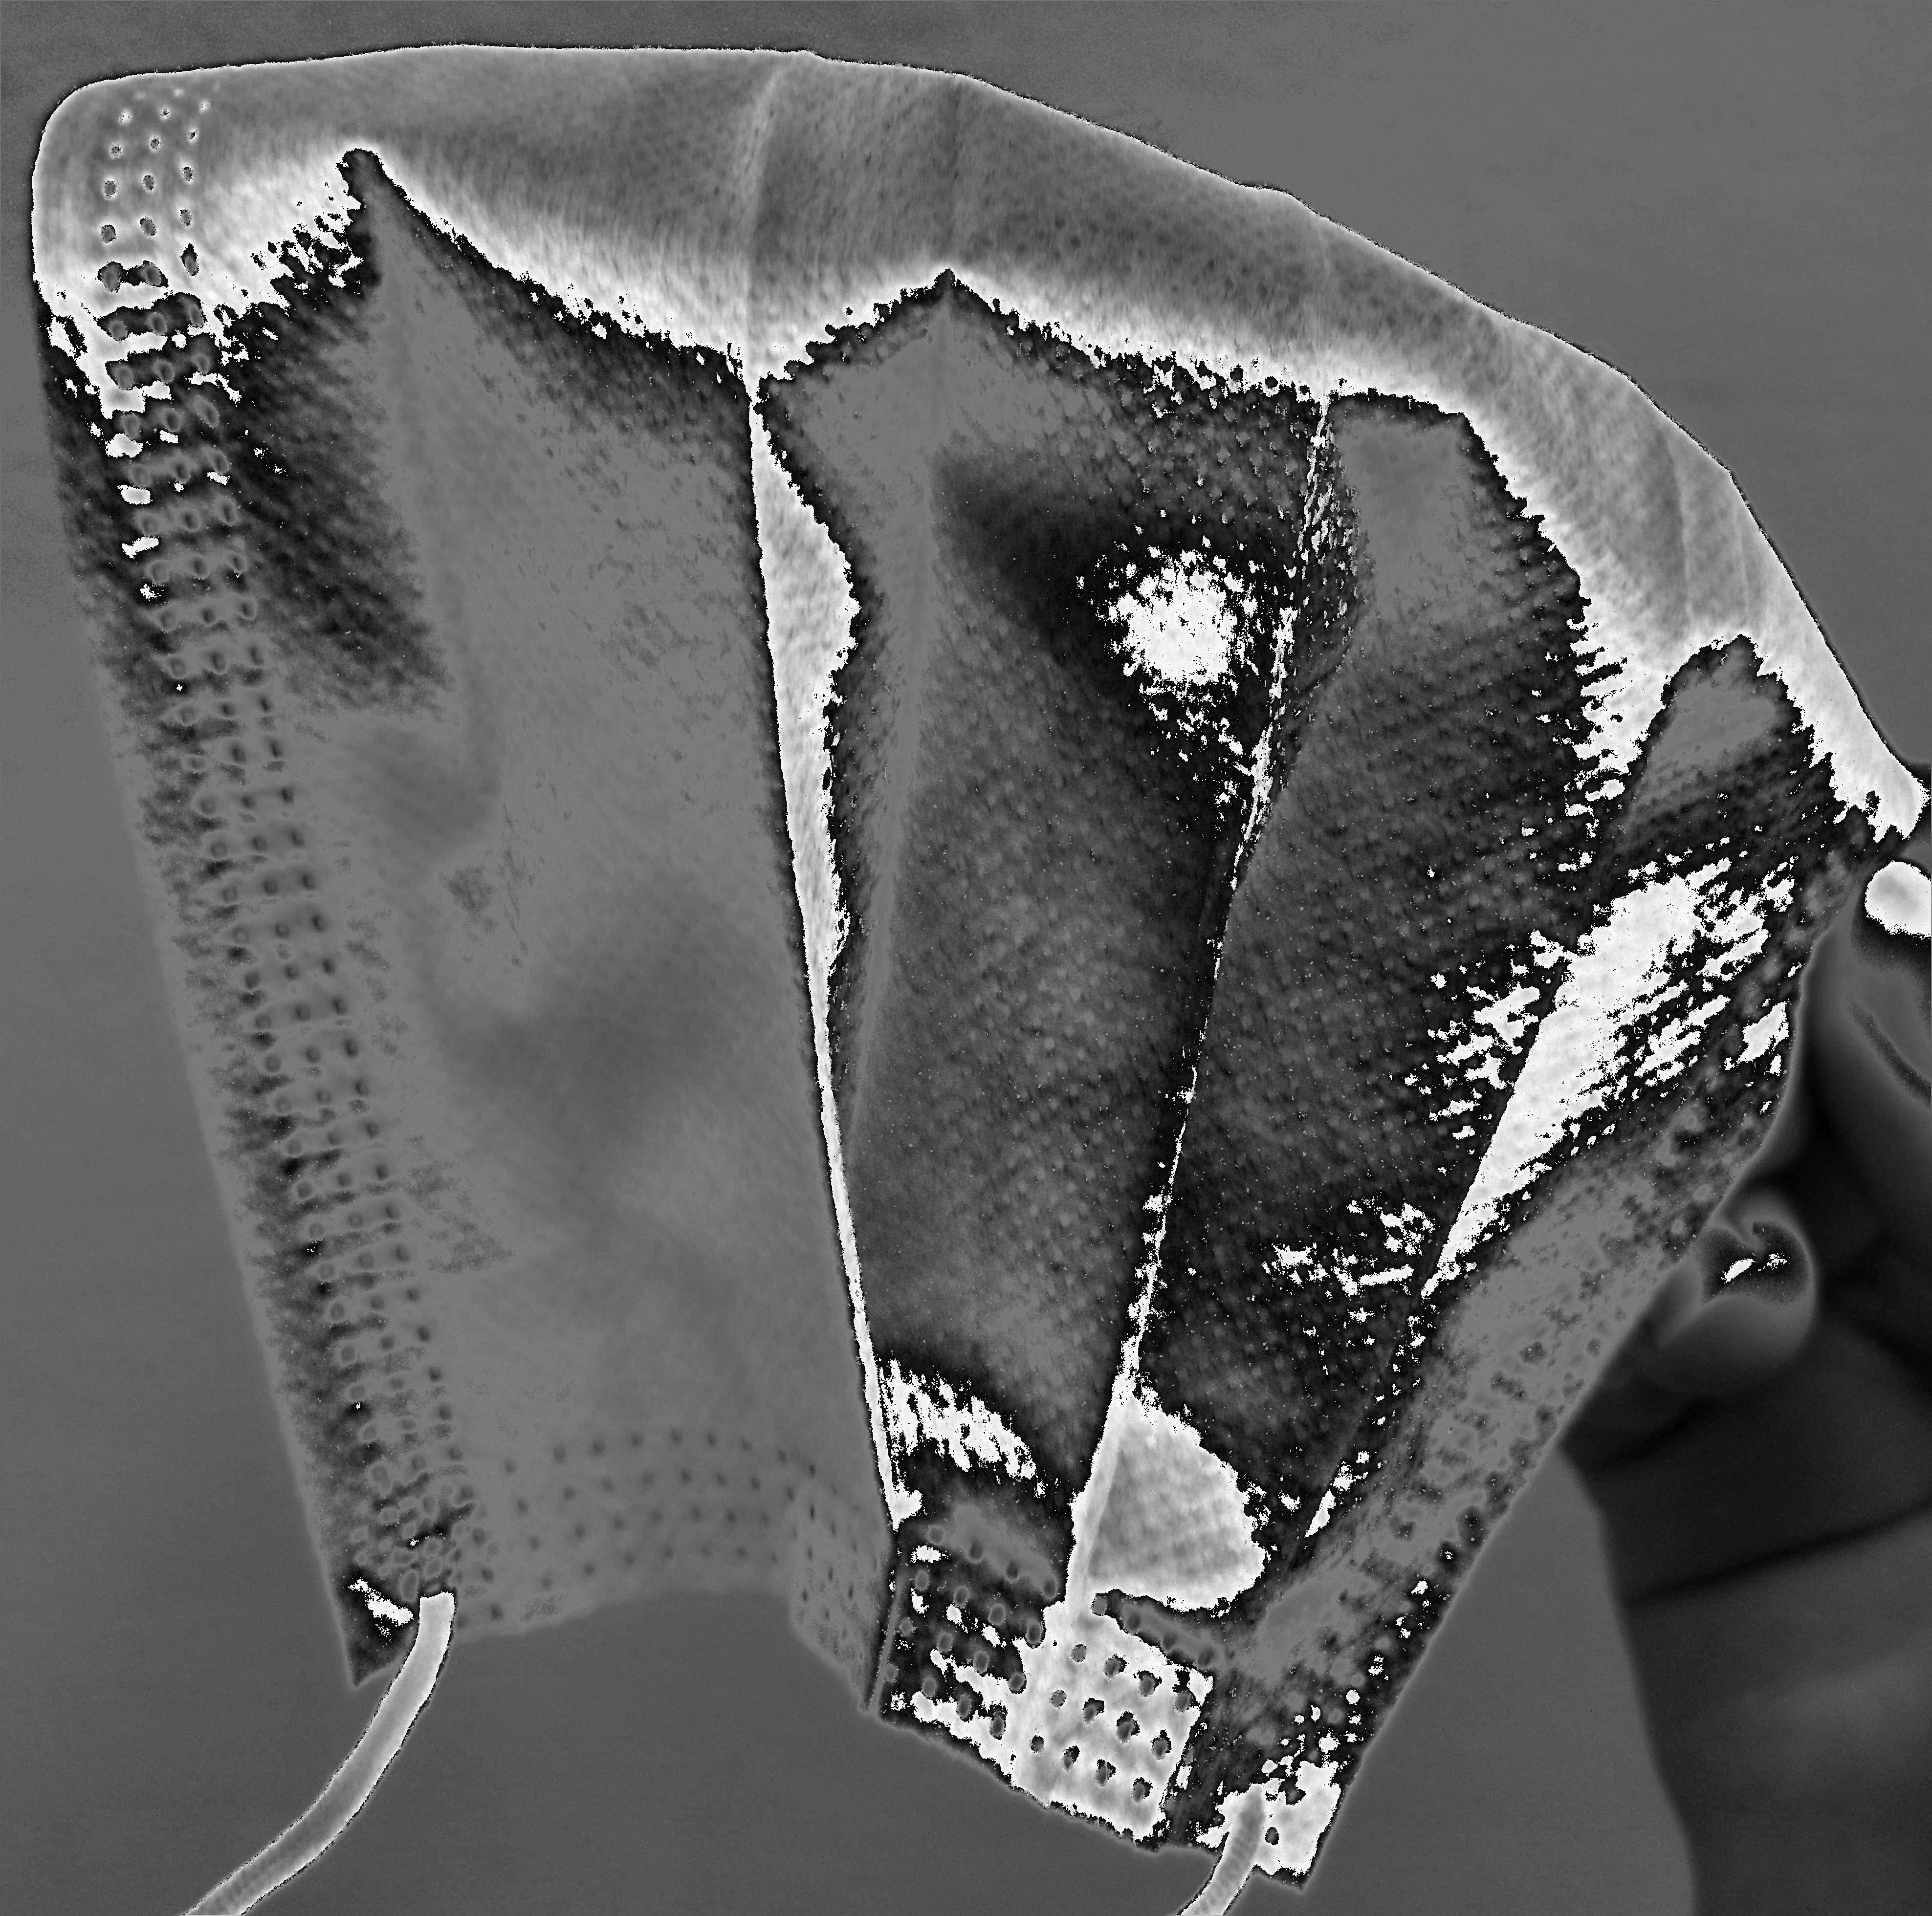Low GSM: (254, 56, 1490, 1467)
